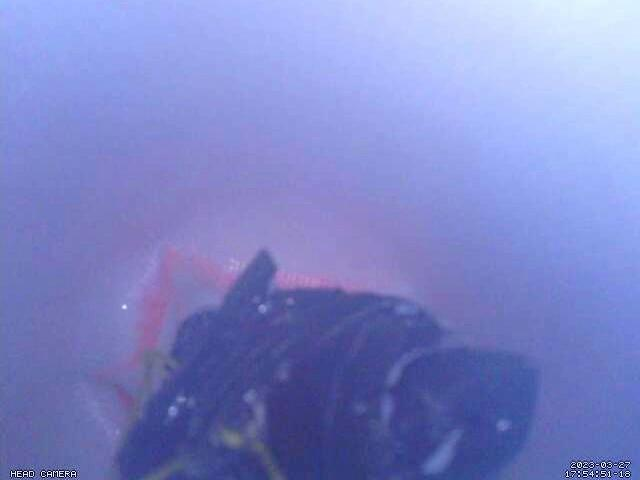head: (90, 241, 364, 418)
